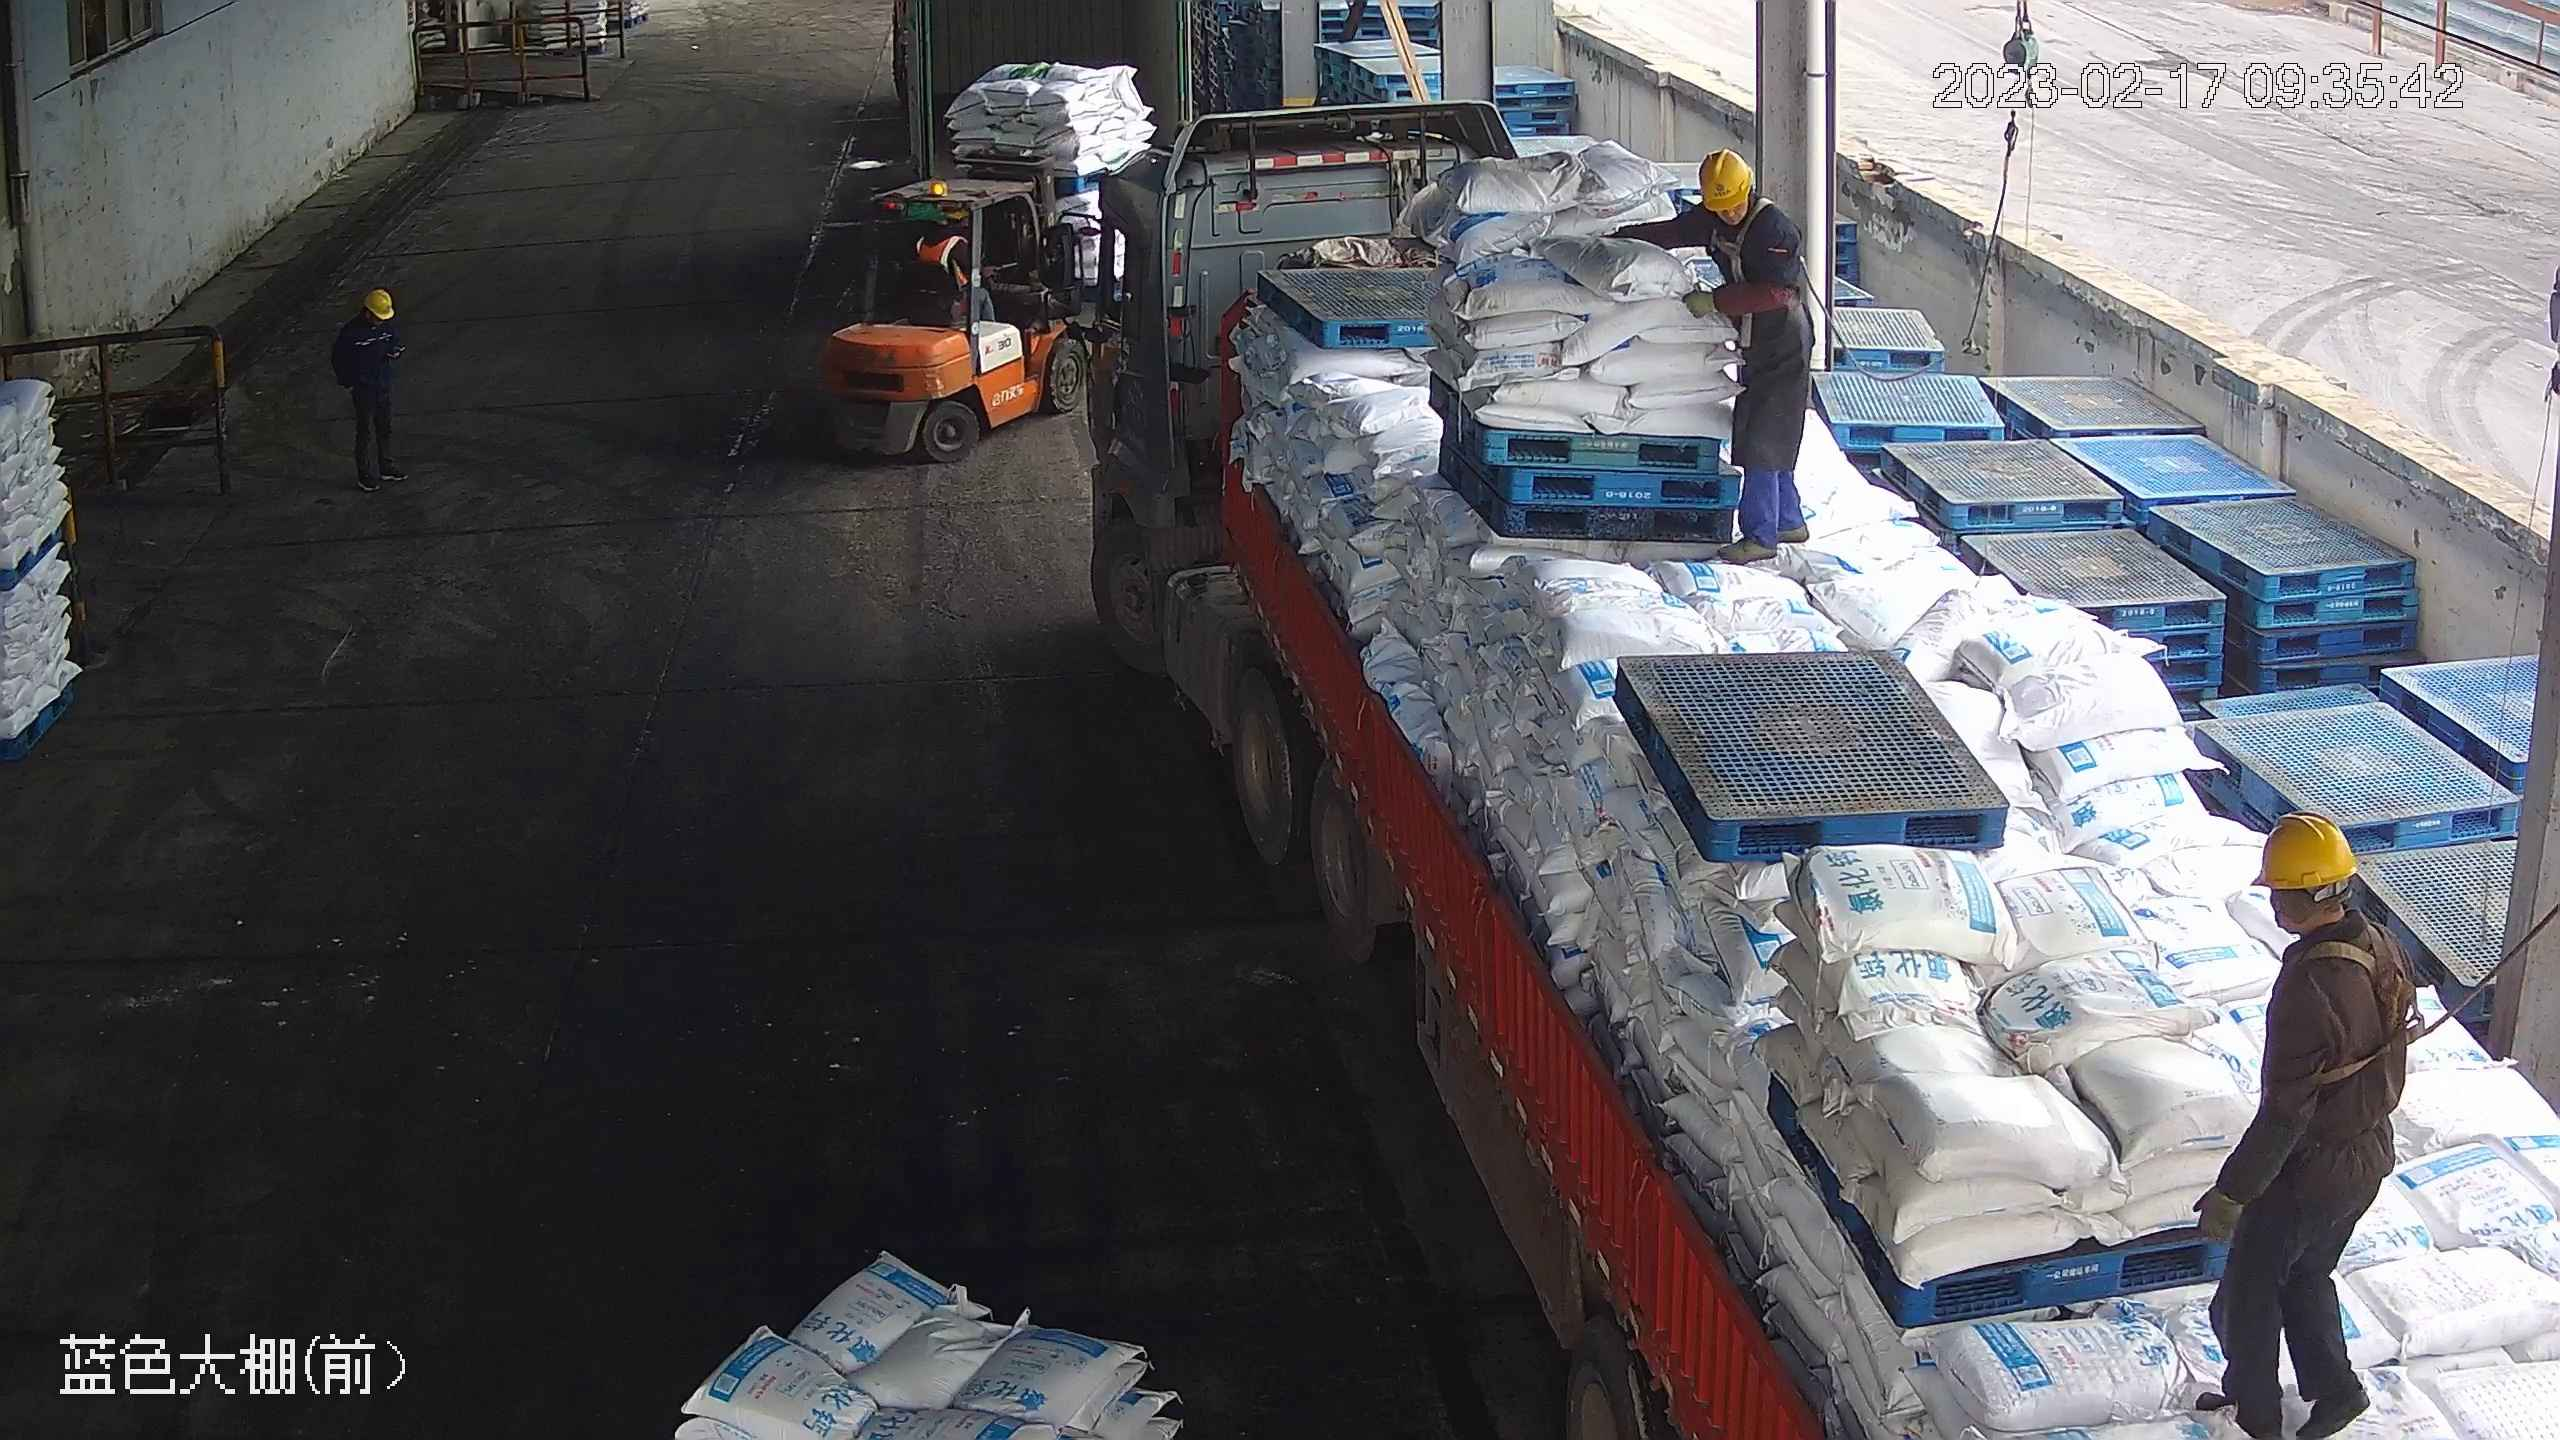belt: (2297, 927, 2440, 1090), (1713, 204, 1779, 276)
head: (2233, 807, 2414, 1009), (1677, 149, 1797, 256), (334, 285, 403, 352)
helmet: (2245, 804, 2372, 889), (1695, 147, 1758, 210), (363, 285, 395, 317)
people: (2190, 808, 2421, 1439), (1621, 143, 1821, 560), (332, 285, 413, 489)
truck: (1085, 88, 2552, 1439)
